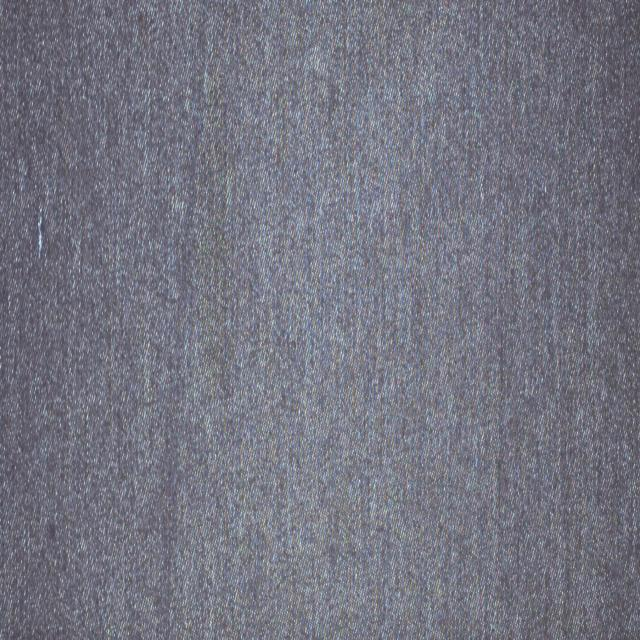pulled_or_thick_thread: (35, 203, 46, 266)
